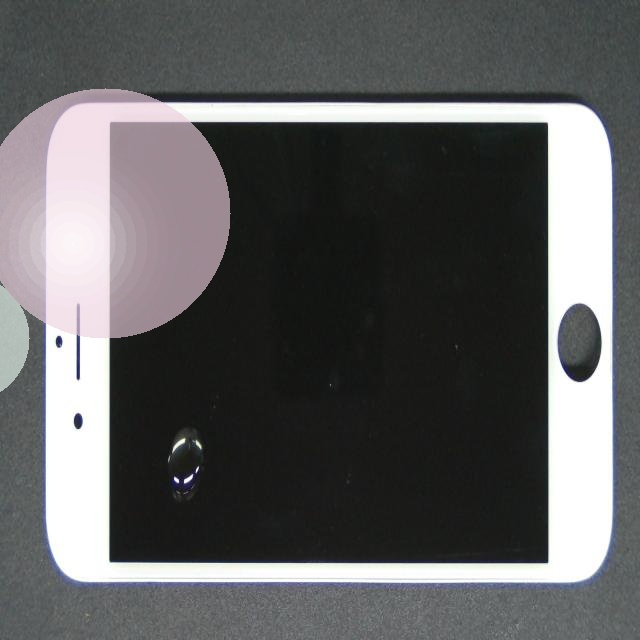oil: (114, 221, 301, 640)
